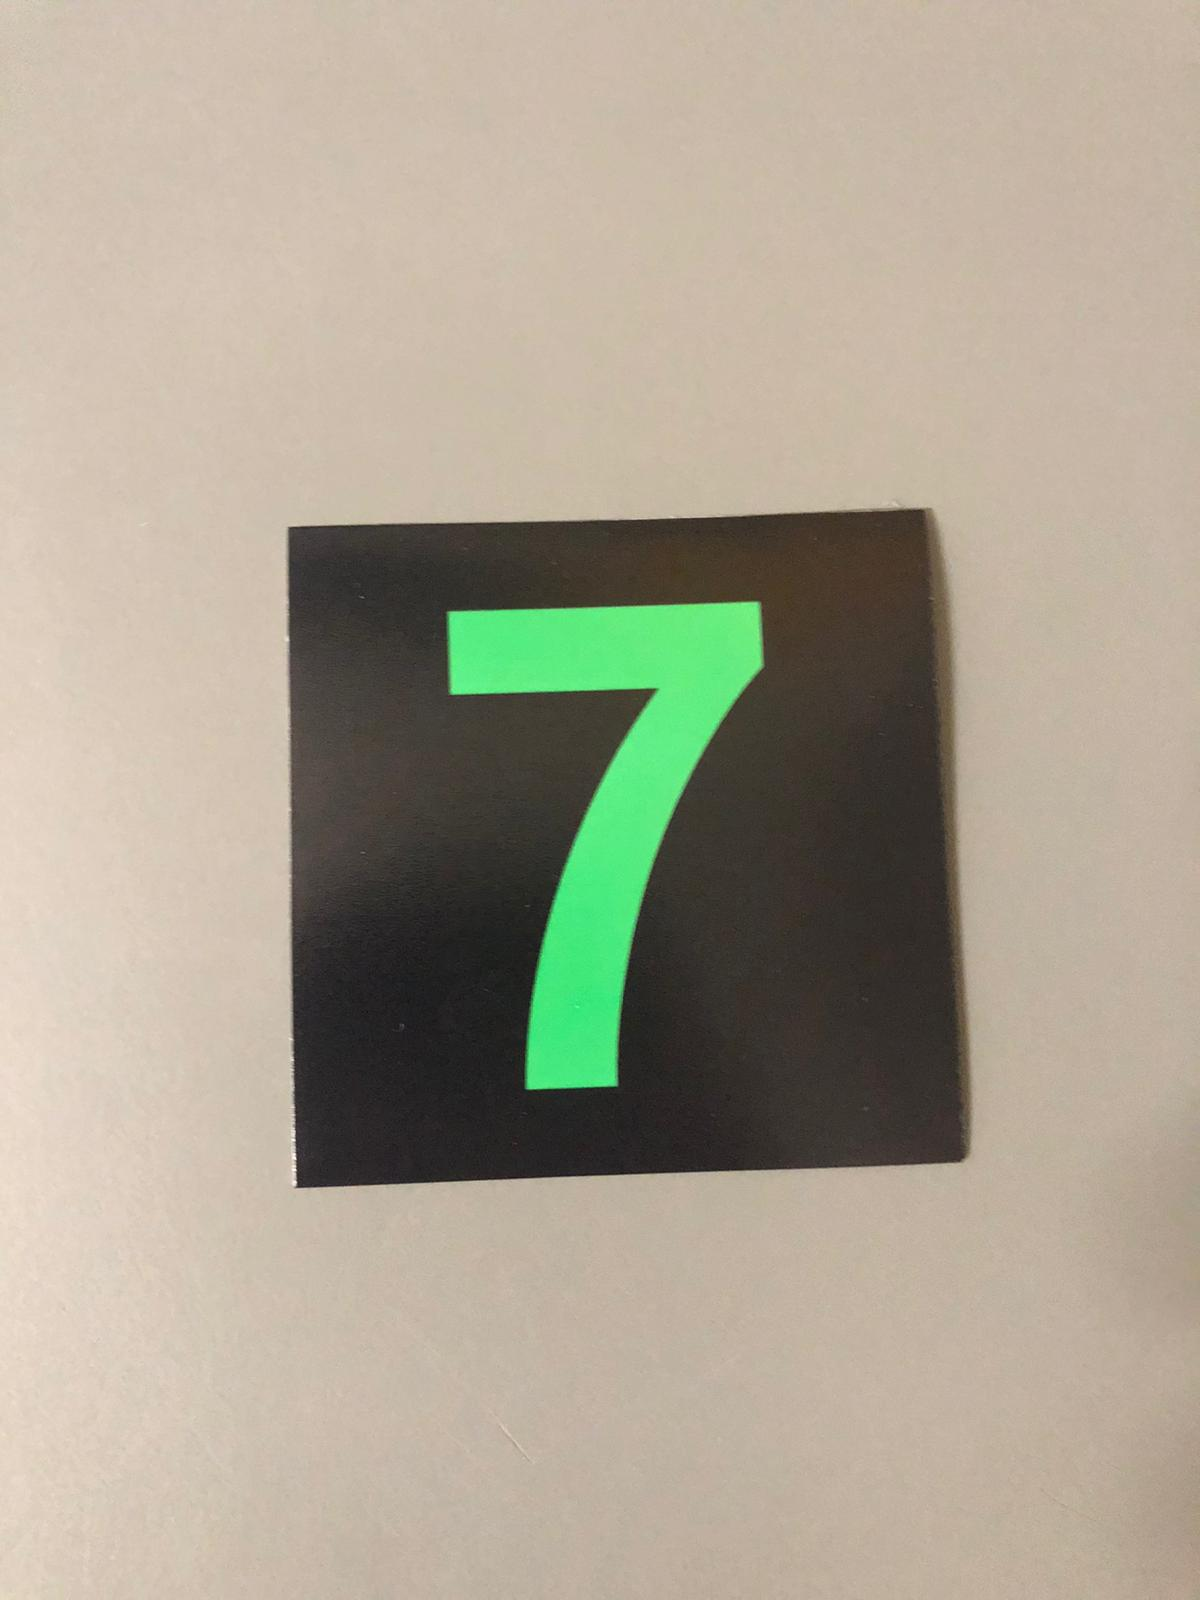Number 7: (292, 556, 942, 1163)
